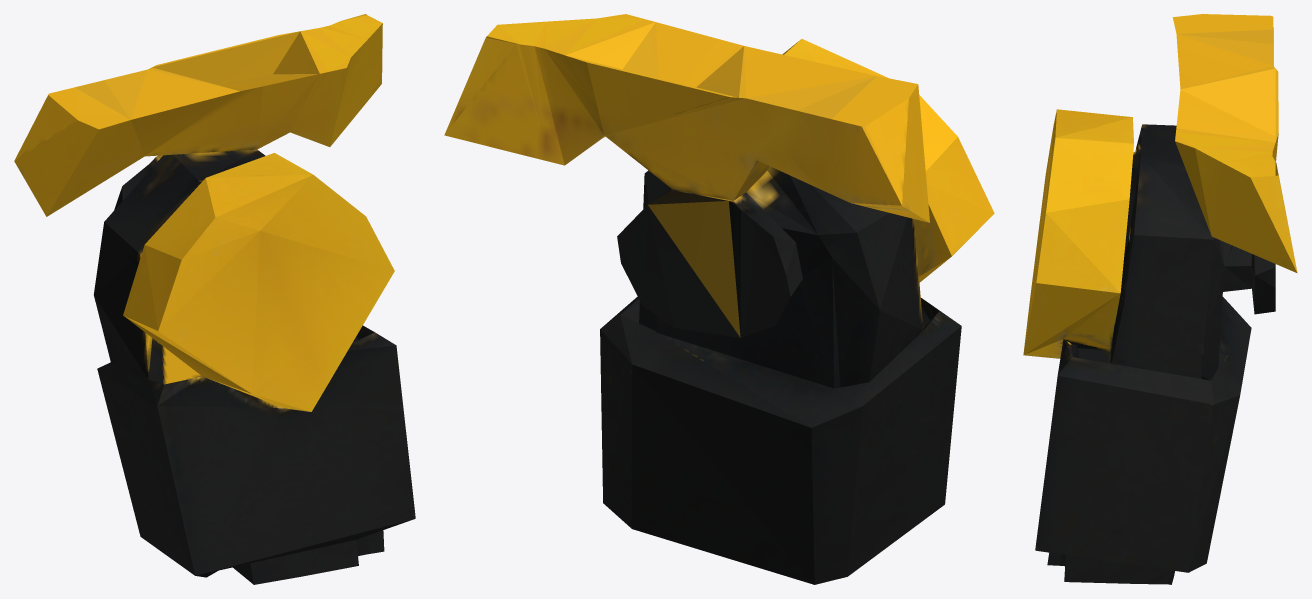
File: SM_ChaserV2Debris_Thigh_R.fbx
The picture shows the model from 3 angles, left to right: view 1: azimuth 30°, elevation 25°; view 2: azimuth 150°, elevation 25°; view 3: azimuth 270°, elevation 25°; orthographic projection. The views are drawn at different scales.
Visible parts, largest first — view 1: SM_ChaserV2Debris_Thigh_R; view 2: SM_ChaserV2Debris_Thigh_R; view 3: SM_ChaserV2Debris_Thigh_R.
Part boxes in pixels (<box>): SM_ChaserV2Debris_Thigh_R: <box>14,14,415,584</box>; SM_ChaserV2Debris_Thigh_R: <box>444,14,994,584</box>; SM_ChaserV2Debris_Thigh_R: <box>1023,14,1297,584</box>.
Size of the model in its own units: 23.3 by 25.8 by 14.28.
Materials: 1 (1 with a texture image).
